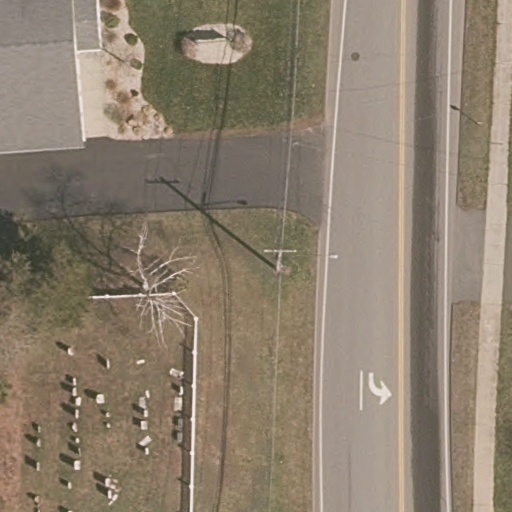DT: (261, 237, 304, 279)
